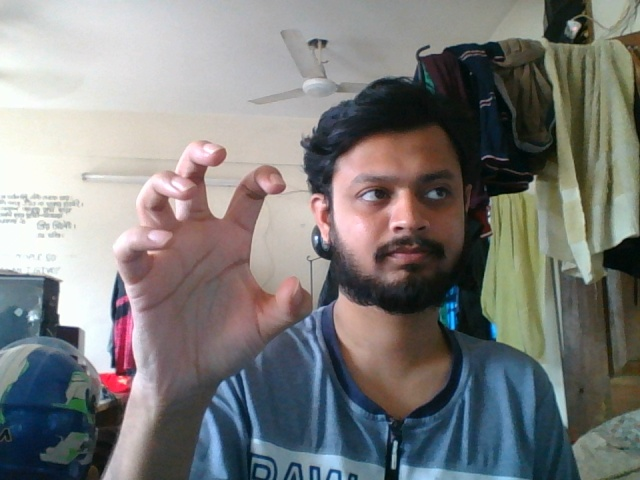ja: (106, 132, 317, 442)
